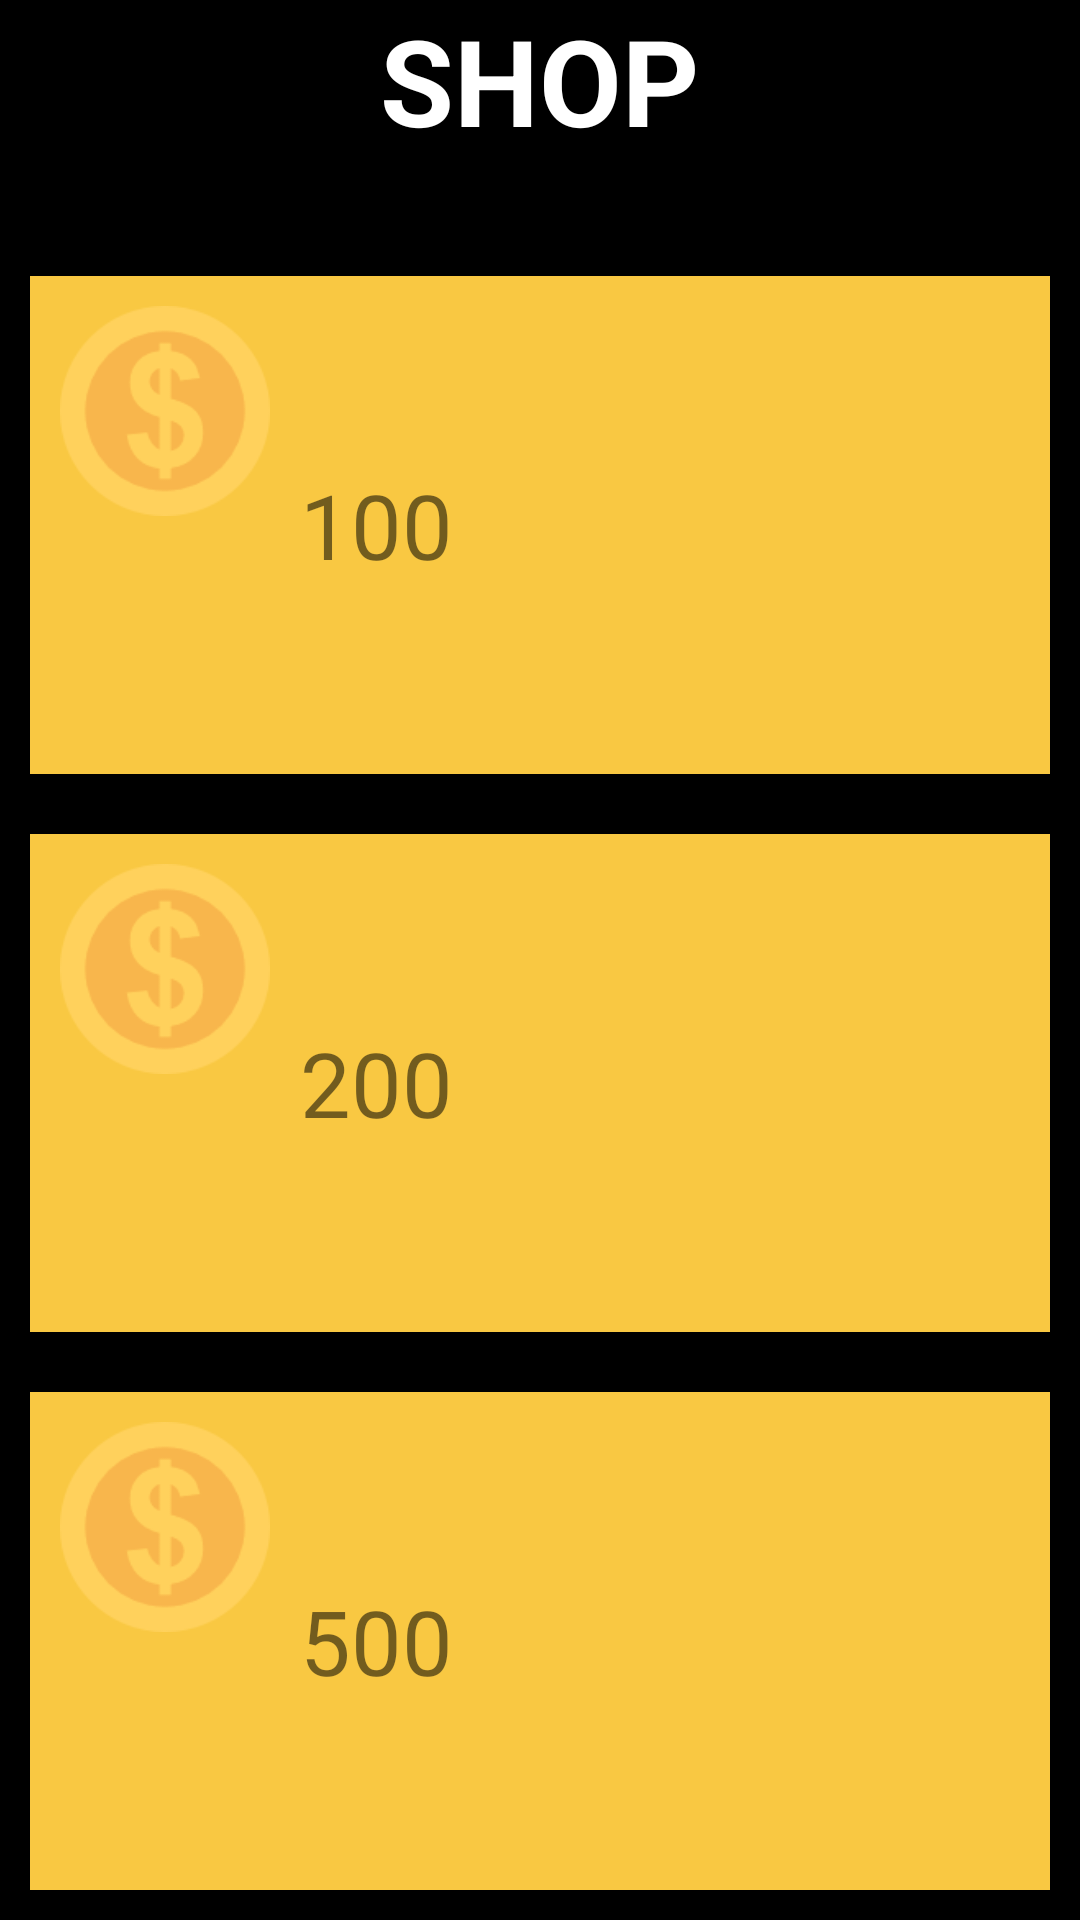

Point at icon controls on the screen. Image size 1080*1920, points as (x,y).
coinn: (165,411), (165,969), (165,1527)
